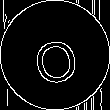O_N: (28, 25, 82, 85)
